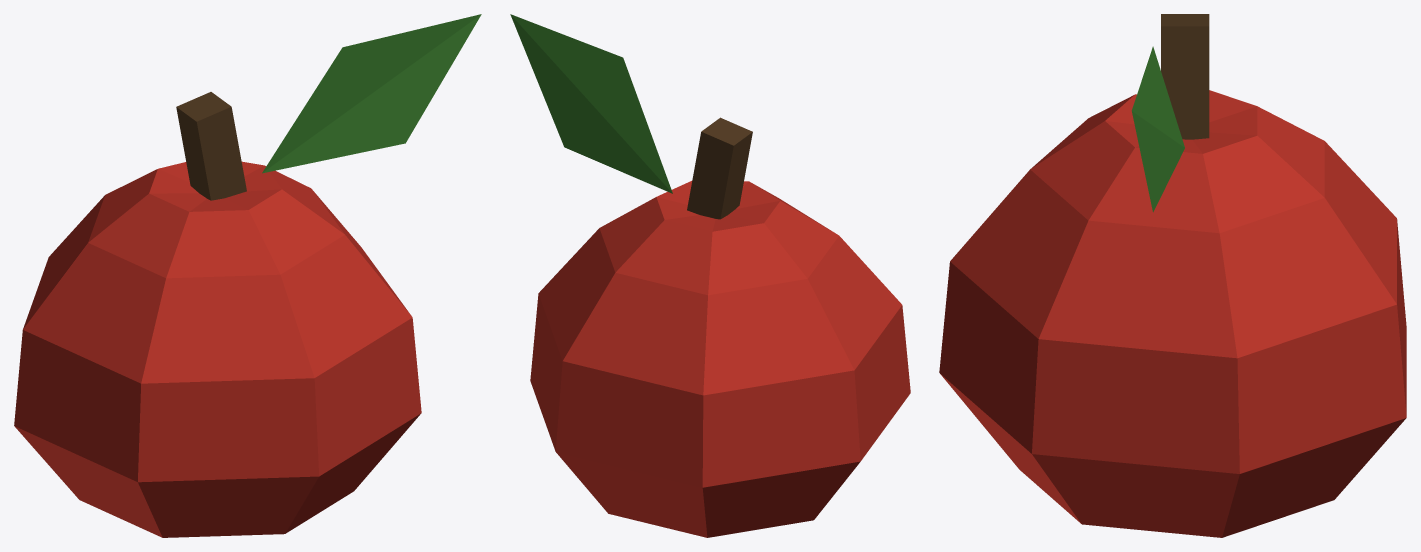
File: apple-b15012.glb
3 views of the same model, side by side, from view 1: azimuth 30°, elevation 25°; view 2: azimuth 150°, elevation 25°; view 3: azimuth 270°, elevation 25° (orthographic). The views are drawn at different scales.
Size of the model in its own units: 0.1068 by 0.115 by 0.0874.
